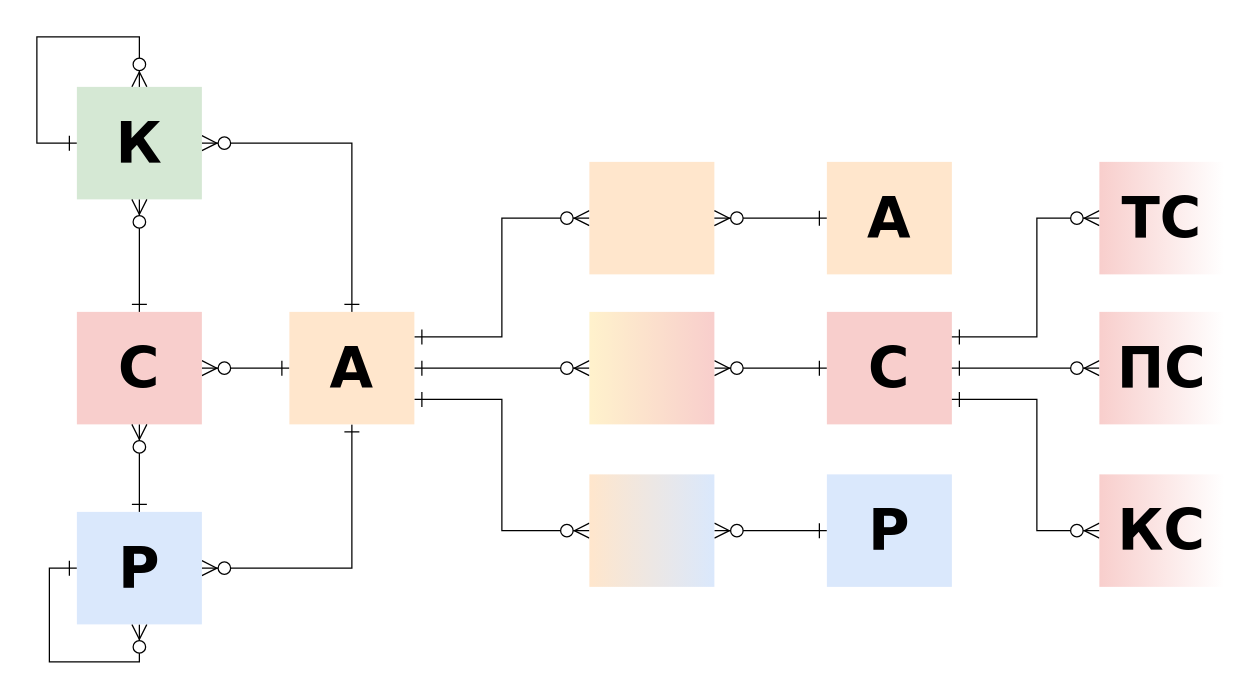
The diagram is 1246 pixels wide and 700 high, and some of its shapes have lost their labels. The box of each missing label's shape, as (x1, y1, x2, y2) in pixels:
ИА: (589, 161, 714, 274)
ИР: (589, 474, 714, 586)
ИС: (589, 311, 714, 424)
